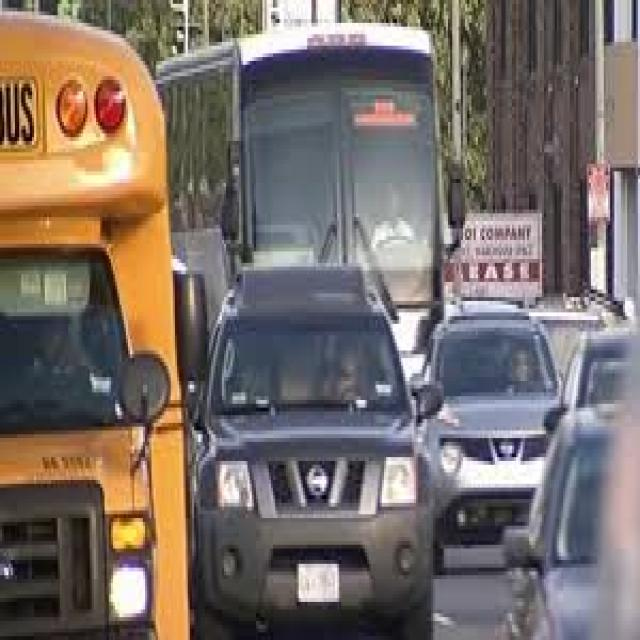bus: (337, 194, 492, 513)
person: (12, 386, 75, 640)
